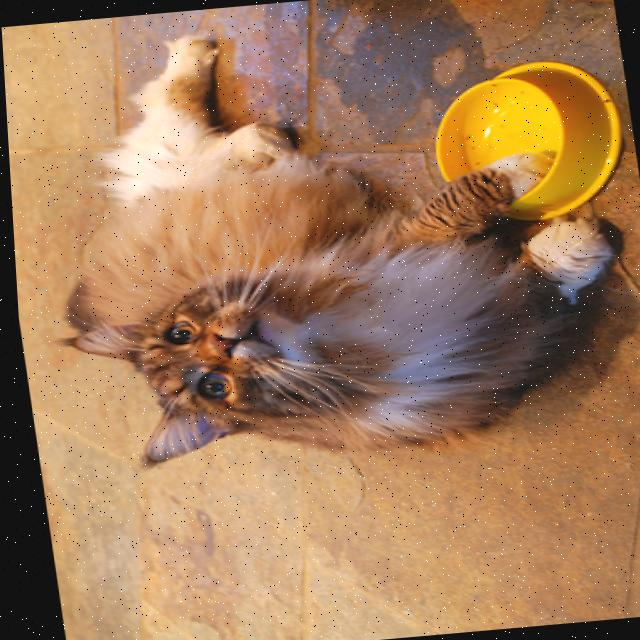Maine Coon: (14, 0, 640, 479)
